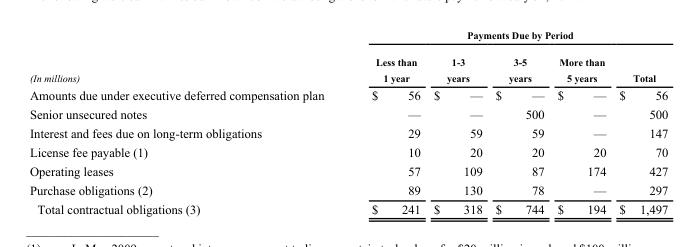table: (28, 29, 667, 215)
table column: (28, 29, 347, 215), (347, 29, 426, 215), (426, 29, 488, 215), (488, 29, 550, 215), (550, 29, 612, 215), (612, 29, 667, 215)
table column header: (28, 29, 667, 85)
table row: (28, 47, 667, 85), (28, 85, 667, 104), (28, 104, 667, 123), (28, 123, 667, 142), (28, 142, 667, 161), (28, 161, 667, 180), (28, 180, 667, 199), (28, 29, 667, 47), (28, 199, 667, 215)
table spanning cell: (28, 29, 347, 85), (347, 29, 667, 47)
